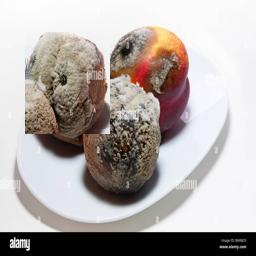Banana Semifresh: (25, 32, 110, 134)
